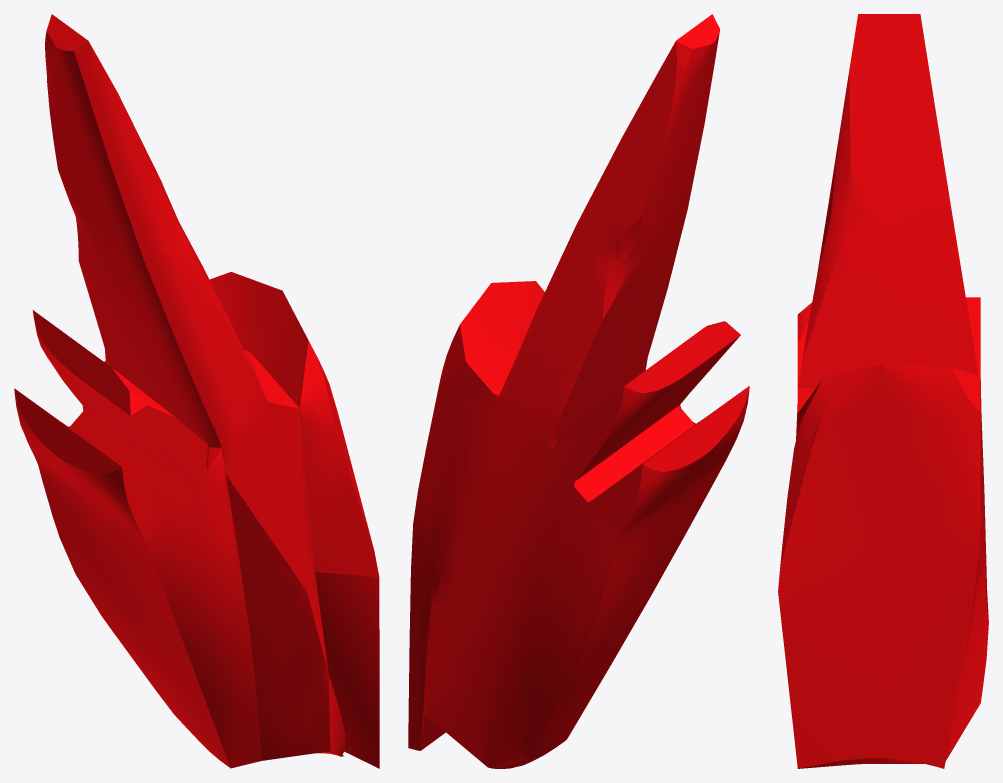
The model's file is Red_Crystal_07.fbx.
3 renders of one model, left to right at view 1: azimuth 30°, elevation 25°; view 2: azimuth 150°, elevation 25°; view 3: azimuth 270°, elevation 25°, orthographic. The views are drawn at different scales.
Visible parts, largest first — view 1: Red_Crystal_07; view 2: Red_Crystal_07; view 3: Red_Crystal_07.
Part boxes in pixels (x1,y1,x2,y2): Red_Crystal_07: (14,14,379,768); Red_Crystal_07: (408,14,749,768); Red_Crystal_07: (778,14,988,768).
Size of the model in its own units: 9.77 by 26.36 by 7.75.
